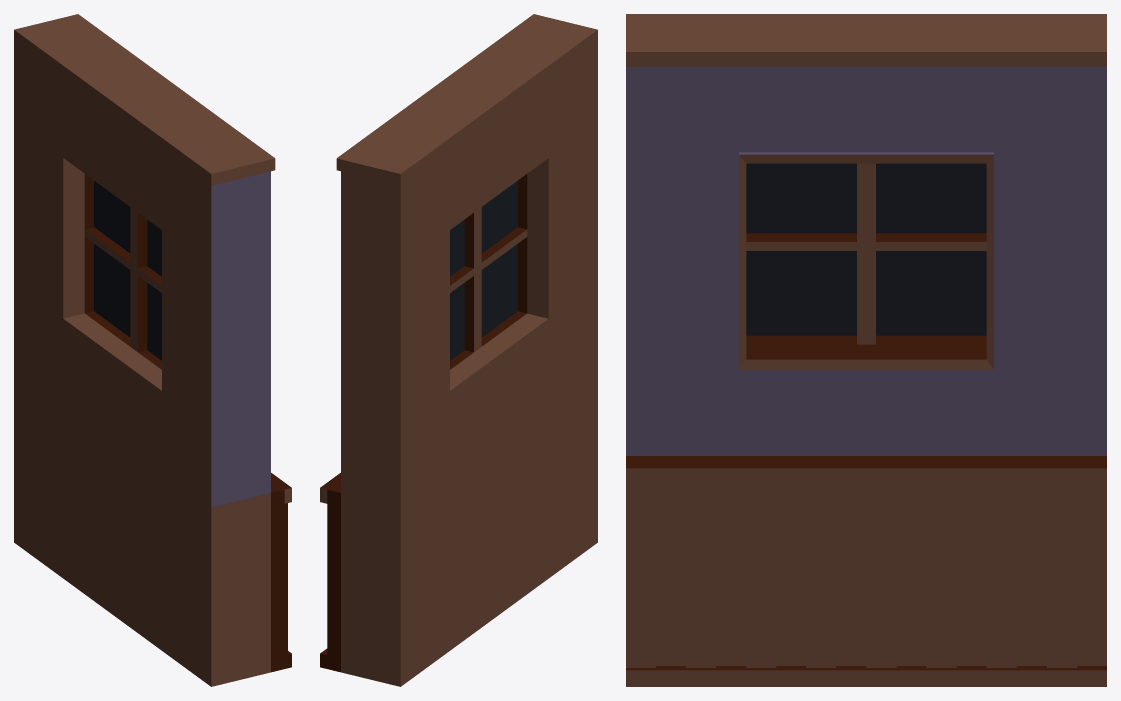
The model's file is Pentacles_Wall_Window_NoCurtain.fbx.
3 views of the same model, side by side, from view 1: azimuth 30°, elevation 25°; view 2: azimuth 150°, elevation 25°; view 3: azimuth 270°, elevation 25° (orthographic). The views are drawn at different scales.
Visible parts, largest first — view 1: Wall Basic Fenster, Fenster einzeln; view 2: Wall Basic Fenster, Fenster einzeln; view 3: Wall Basic Fenster, Fenster einzeln.
Part boxes in pixels (x1,y1,x2,y2): Wall Basic Fenster: (14,14,291,686); Fenster einzeln: (94,180,161,360); Wall Basic Fenster: (320,14,597,686); Fenster einzeln: (450,180,517,360); Wall Basic Fenster: (626,14,1106,686); Fenster einzeln: (746,163,986,335).
Bounding box in the file's own units: 98.17 × 597 × 416.
